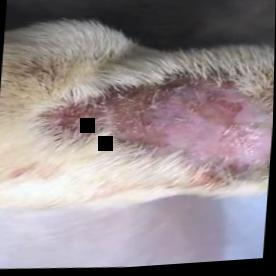skin_lesions: (57, 60, 275, 199)
